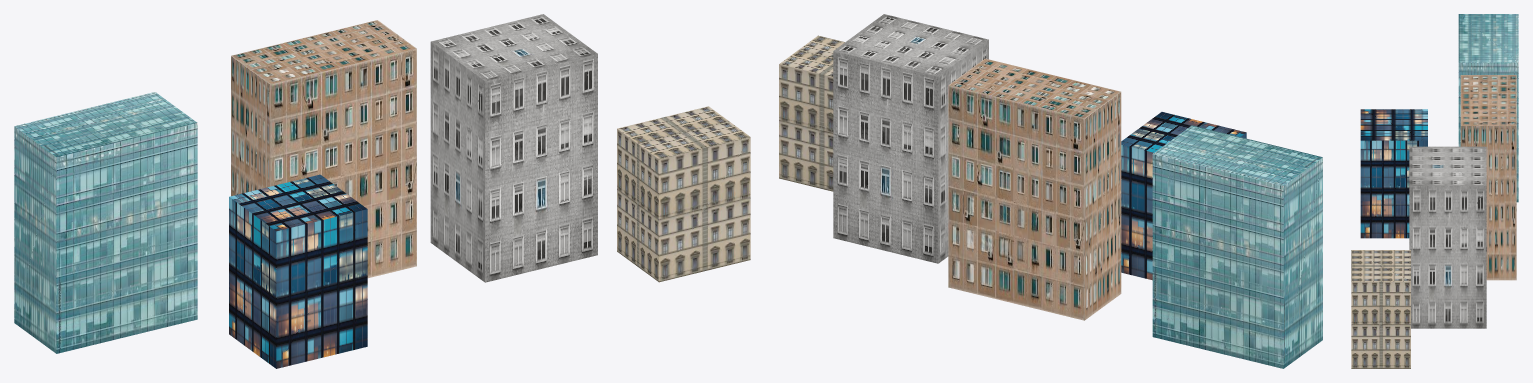
File: buildings.gltf
The picture shows the model from 3 angles, left to right: view 1: azimuth 30°, elevation 25°; view 2: azimuth 150°, elevation 25°; view 3: azimuth 270°, elevation 25°; orthographic projection. The views are drawn at different scales.
Parts seen in each view (by area): view 1: Box (×5); view 2: Box (×5); view 3: Box (×5).
Part boxes in pixels (x1,y1,x2,y2): Box (×5): (14,14,750,368); Box (×5): (779,14,1322,368); Box (×5): (1351,14,1518,368).
Bounding box in the file's own units: 12.18 × 4.09 × 4.02.
5 materials, 5 textured.
